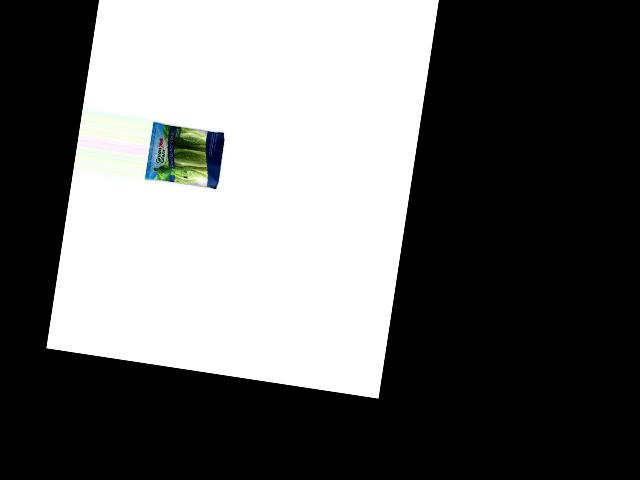lettuce: (147, 121, 228, 192)
